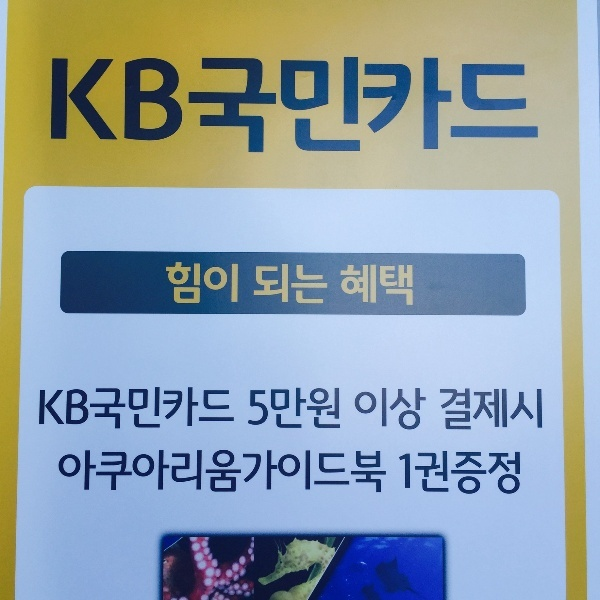text: (193, 54, 208, 159), (209, 54, 224, 159), (225, 54, 240, 159), (241, 54, 256, 159), (257, 54, 272, 159), (273, 54, 288, 159), (289, 54, 304, 159), (305, 54, 320, 159), (321, 54, 336, 159), (337, 54, 352, 159), (353, 54, 368, 159), (369, 54, 384, 159), (385, 54, 400, 159), (401, 54, 416, 159), (417, 54, 432, 159), (433, 54, 448, 159), (449, 54, 464, 159), (465, 54, 480, 159), (481, 54, 496, 159), (497, 54, 512, 159), (513, 54, 528, 159), (529, 54, 543, 159), (65, 54, 80, 145), (81, 54, 96, 145), (97, 54, 112, 145), (113, 54, 128, 145), (129, 54, 144, 145), (145, 54, 160, 145), (161, 54, 176, 145), (51, 54, 64, 145), (65, 449, 80, 497), (81, 449, 96, 497), (97, 449, 112, 497), (113, 449, 128, 497), (129, 449, 144, 497), (145, 449, 160, 497), (161, 449, 176, 497), (177, 449, 192, 497), (193, 449, 208, 497), (209, 449, 224, 497), (225, 449, 240, 497), (241, 449, 256, 497), (257, 449, 272, 497), (273, 449, 288, 497), (289, 449, 304, 497), (305, 449, 320, 497), (321, 449, 336, 497), (337, 449, 352, 497), (353, 449, 368, 497), (369, 449, 384, 497), (401, 451, 416, 499), (417, 451, 432, 499), (433, 451, 448, 499), (449, 451, 464, 499), (465, 451, 480, 499), (481, 451, 496, 499), (497, 451, 512, 499), (369, 387, 384, 433), (385, 387, 400, 433), (401, 387, 416, 433), (97, 387, 112, 433), (113, 387, 128, 433), (129, 387, 144, 433), (145, 387, 160, 433), (161, 387, 176, 433), (177, 387, 192, 433), (193, 387, 208, 433), (209, 387, 224, 433), (449, 388, 464, 433), (465, 388, 480, 433), (481, 388, 496, 433), (497, 388, 512, 433), (513, 388, 528, 433), (529, 388, 544, 433), (257, 386, 272, 431), (273, 386, 288, 431), (289, 386, 304, 431), (305, 386, 320, 431), (321, 386, 336, 431), (177, 260, 192, 305), (193, 260, 208, 305), (209, 260, 224, 305), (353, 263, 368, 308), (369, 263, 384, 308), (385, 263, 400, 308), (257, 262, 272, 306), (273, 262, 288, 306), (289, 262, 304, 306), (305, 262, 320, 306), (177, 54, 184, 145), (225, 260, 239, 305), (401, 263, 415, 308), (355, 387, 368, 433), (49, 388, 64, 427), (65, 388, 80, 427), (417, 387, 429, 433), (340, 263, 352, 308), (225, 387, 236, 433), (166, 260, 176, 305), (513, 451, 522, 499), (440, 388, 448, 433), (321, 262, 329, 306), (39, 388, 48, 427), (81, 388, 90, 427), (57, 449, 64, 497), (249, 386, 256, 431), (91, 387, 96, 433), (337, 386, 341, 431), (191, 54, 192, 159), (385, 449, 387, 497), (399, 451, 400, 499), (255, 262, 256, 306)
